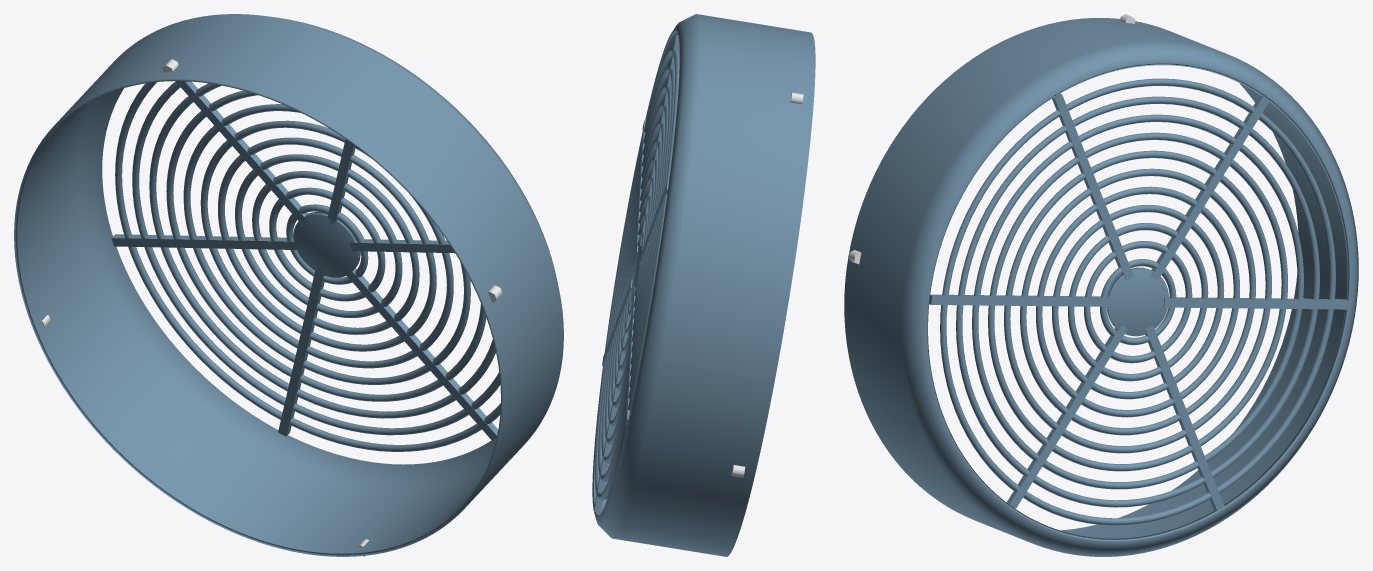
The model's file is induction_fanCover.glb.
3 renders of one model, left to right at view 1: azimuth 30°, elevation 25°; view 2: azimuth 150°, elevation 25°; view 3: azimuth 270°, elevation 25°, orthographic. The views are drawn at different scales.
Size of the model in its own units: 0.6644 by 0.9369 by 0.8945.
